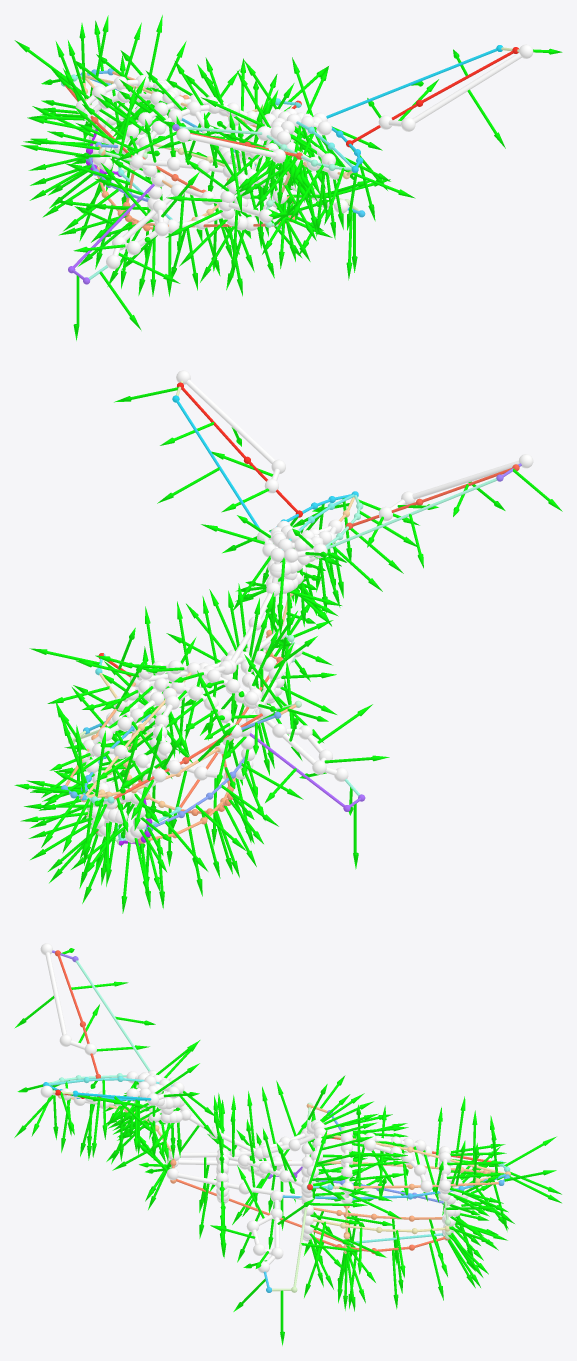
File: ils_spacecraft_29.gltf
The picture shows the model from 3 angles, top to bottom: view 1: azimuth 30°, elevation 25°; view 2: azimuth 150°, elevation 25°; view 3: azimuth 270°, elevation 25°; orthographic projection. The views are drawn at different scales.
Size of the model in its own units: 0.7095 by 0.502 by 0.8822.
